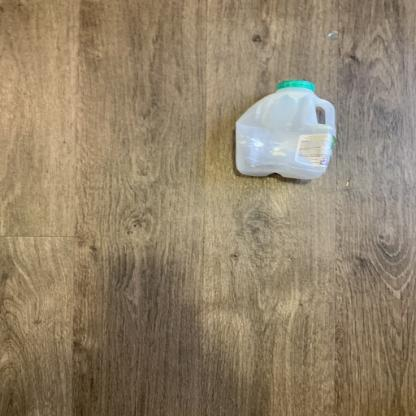trash: (231, 81, 343, 190)
